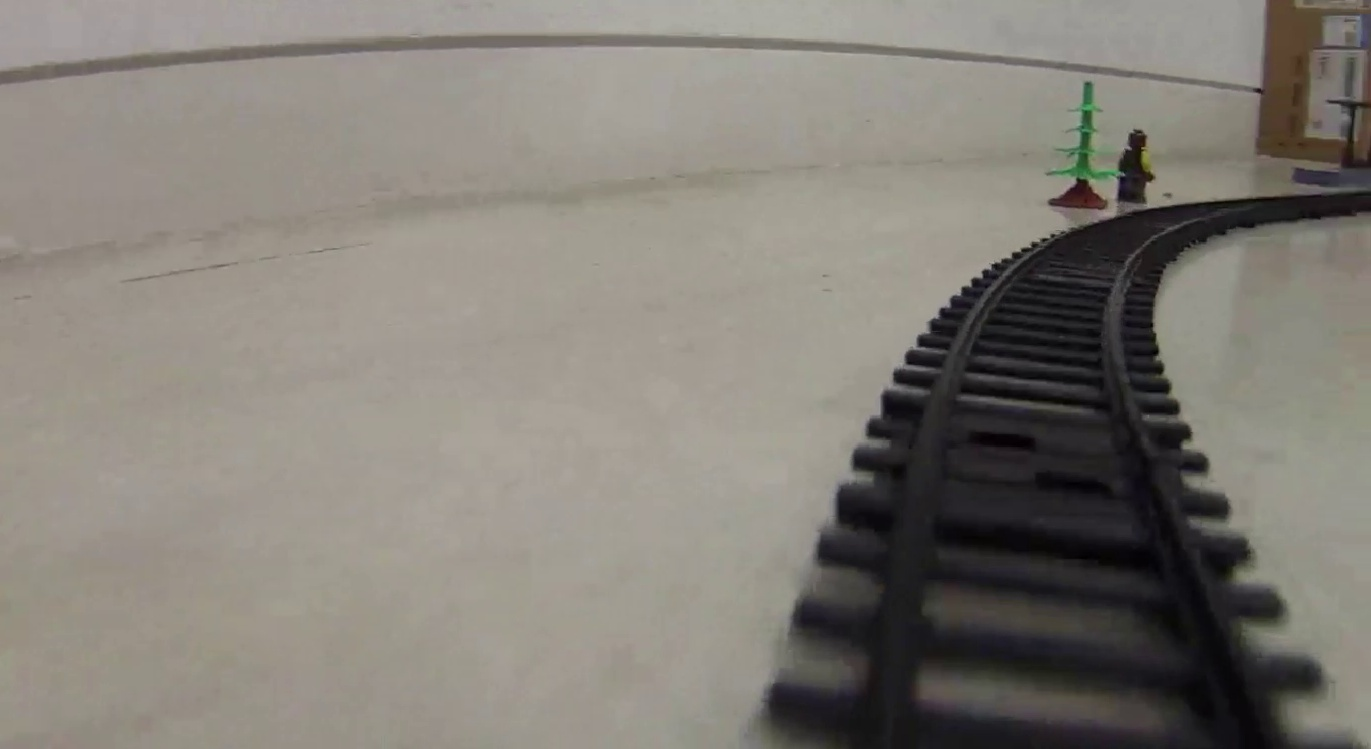people: (1117, 126, 1153, 203)
tree: (1043, 80, 1116, 211)
